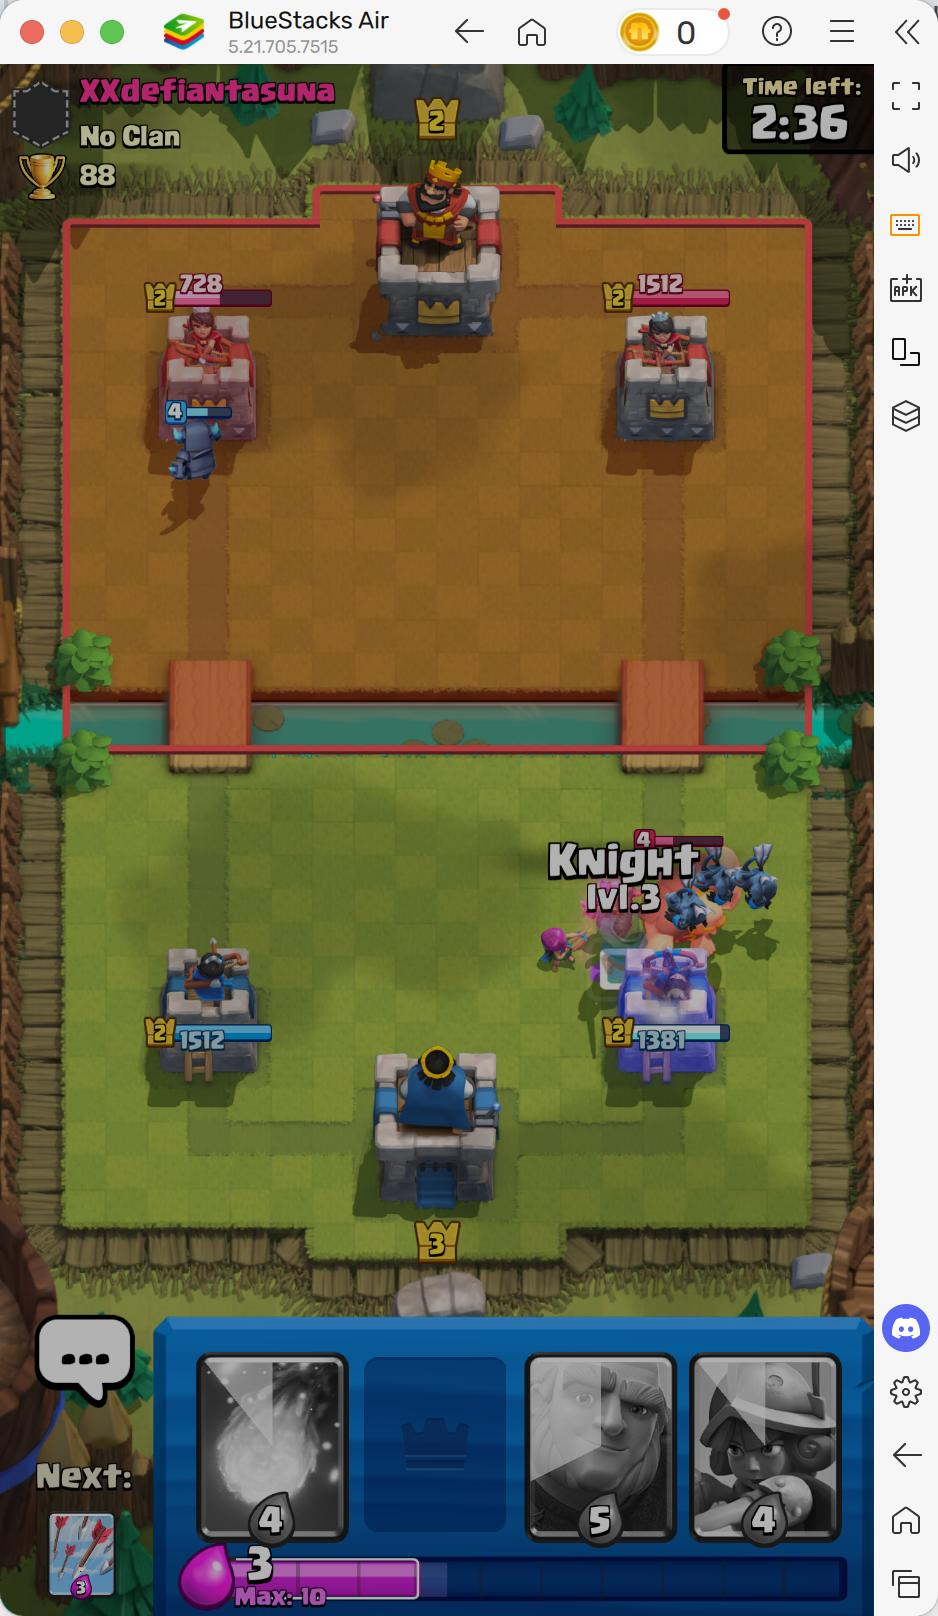1: (636, 271, 648, 296), (659, 271, 670, 296), (179, 1029, 190, 1051), (677, 1029, 687, 1051), (636, 1029, 647, 1051), (202, 1030, 212, 1050)
14: (610, 943, 719, 1079), (155, 946, 264, 1076)
2: (749, 103, 778, 143), (209, 1028, 227, 1051), (191, 271, 209, 295), (668, 272, 685, 295)
3: (246, 1541, 274, 1585), (793, 103, 820, 144), (647, 1029, 661, 1052), (76, 1579, 87, 1596)
4: (257, 1502, 287, 1538), (749, 1503, 778, 1538)
5: (587, 1502, 614, 1539), (645, 271, 661, 296), (186, 1029, 203, 1051)
7: (819, 103, 850, 142)
9: (179, 271, 194, 296)
Battle: (205, 271, 223, 296), (659, 1029, 678, 1051)
Friendly Winner: (154, 311, 262, 441), (614, 312, 717, 444)
